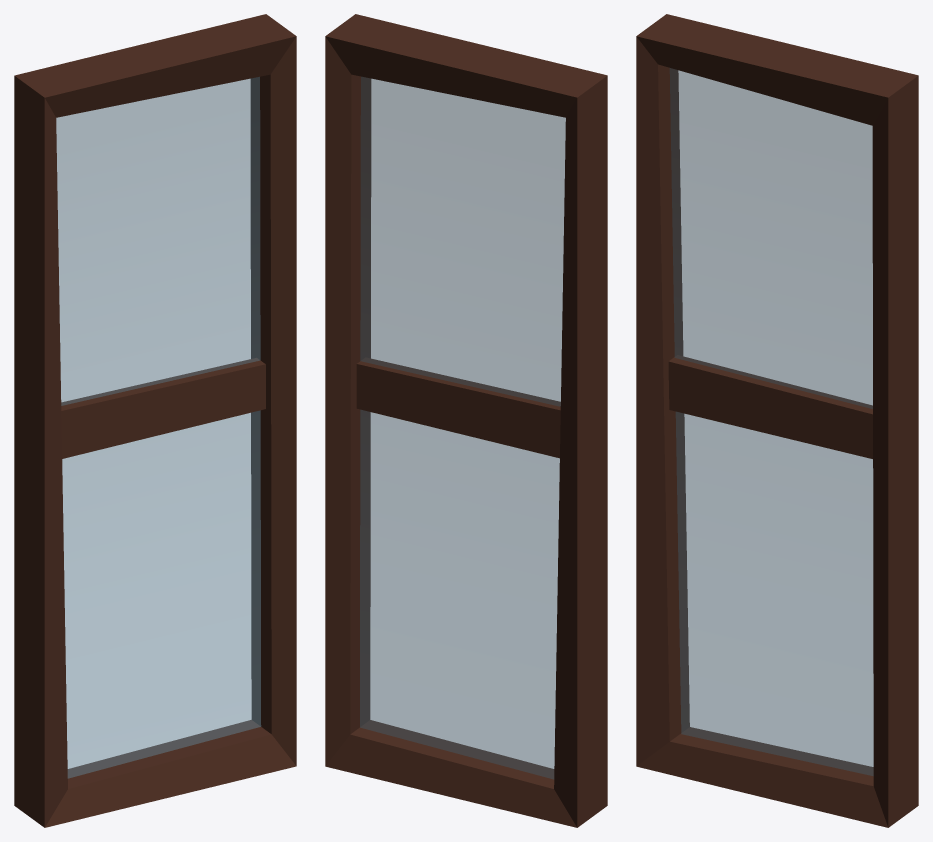
Rendered from Window 1x2 Glass Panel.glb.
The picture shows the model from 3 angles, left to right: view 1: azimuth 30°, elevation 25°; view 2: azimuth 150°, elevation 25°; view 3: azimuth 330°, elevation 25°; orthographic projection.
Visible parts, largest first — view 1: Window 1x2 glass panel; view 2: Window 1x2 glass panel; view 3: Window 1x2 glass panel.
Boxes of the visible parts, left/top/right/bottom form: Window 1x2 glass panel: left=14, top=14, right=296, bottom=827; Window 1x2 glass panel: left=325, top=14, right=607, bottom=827; Window 1x2 glass panel: left=636, top=14, right=918, bottom=827.
Size of the model in its own units: 0.5103 by 1.41 by 0.1069.
Materials: 2 (2 with a texture image).
